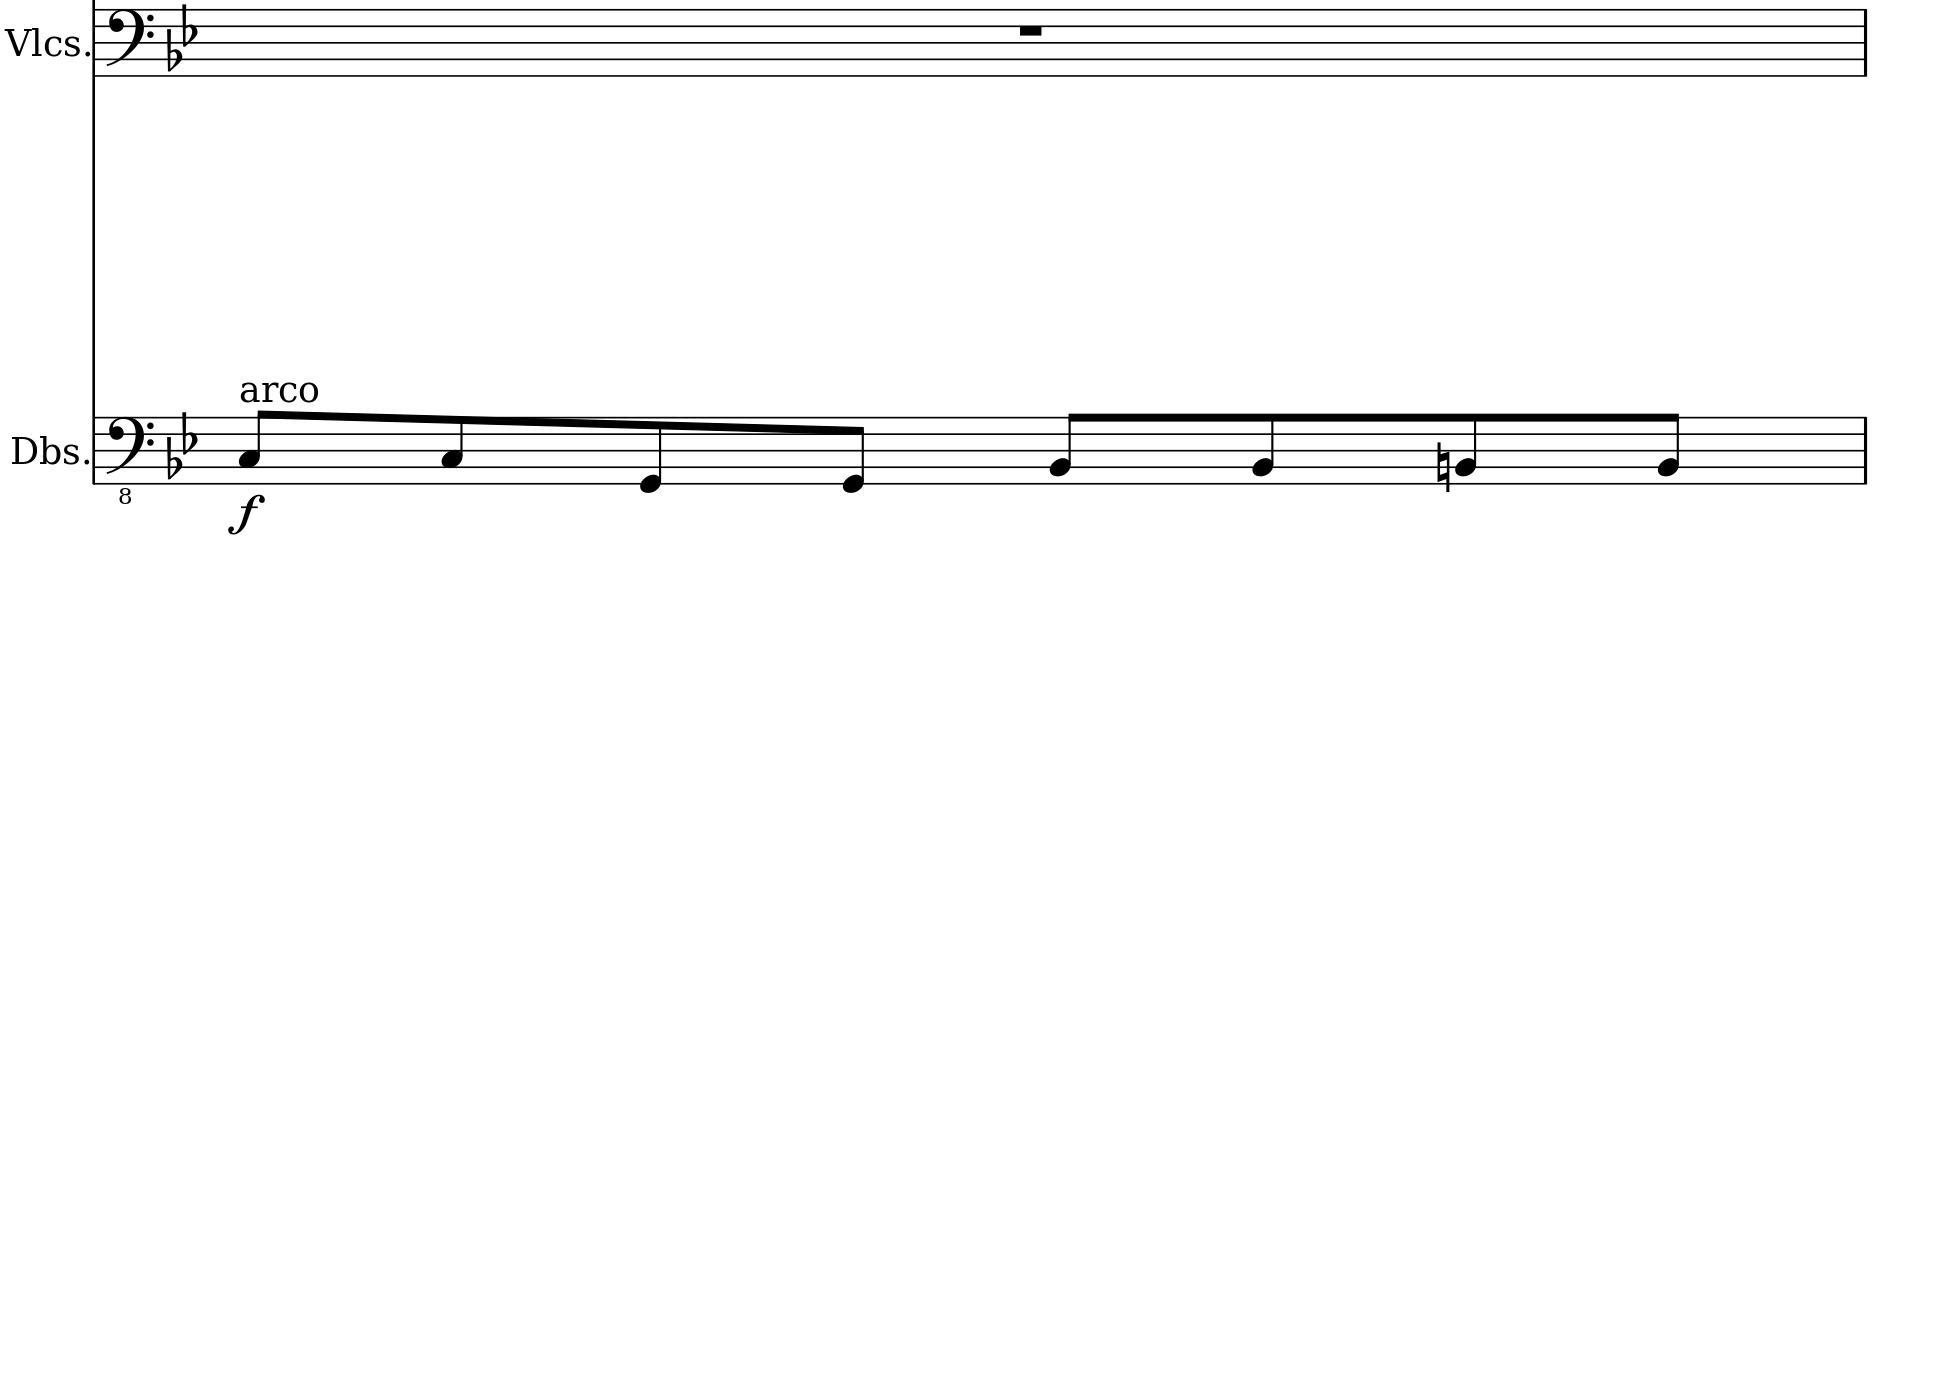8_0: (639, 414, 664, 495), (841, 414, 867, 495)
8_2: (1048, 411, 1081, 486), (1251, 412, 1278, 487), (1657, 409, 1683, 487), (1455, 411, 1480, 486)
8_3: (235, 408, 271, 484), (439, 412, 466, 487)
B_F: (166, 1, 198, 72), (166, 409, 198, 478)
Fclef: (103, 6, 154, 78)
Lower_Fclef: (103, 412, 154, 504)
Natural: (1435, 439, 1452, 493)
Rests1: (1014, 19, 1047, 40)
Single_barline: (1857, 7, 1875, 76), (1857, 417, 1875, 484), (87, 7, 102, 76), (87, 417, 100, 484)
Vlc: (3, 19, 64, 61)
f: (226, 493, 265, 535)
